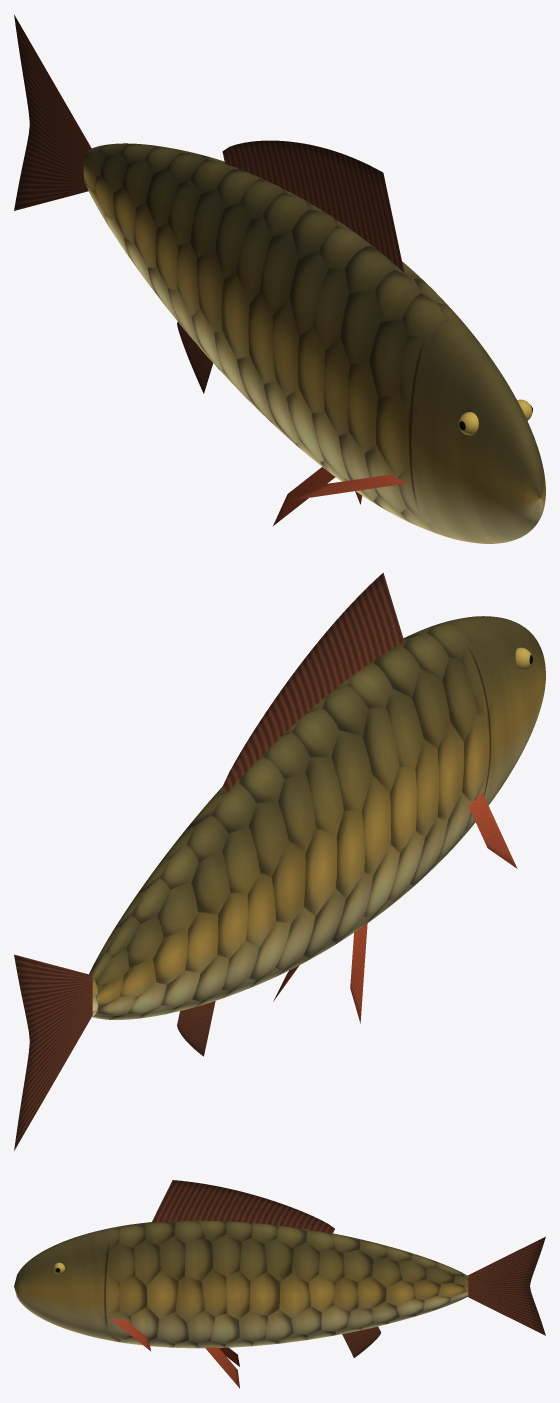
The model's file is karas.obj.
3 renders of one model, top to bottom at view 1: azimuth 30°, elevation 25°; view 2: azimuth 150°, elevation 25°; view 3: azimuth 270°, elevation 25°, orthographic. The views are drawn at different scales.
Visible parts, largest first — view 1: body, fin_dorsal0, fin_tail, fin_pect_R, fin_pelv_R, fin_anal0; view 2: body, fin_dorsal0, fin_tail, fin_anal0, fin_pect_R, fin_pelv_R; view 3: body, fin_dorsal0, fin_tail, fin_anal0, fin_pelv_L, fin_pect_L.
Boxes of the visible parts, x1,y1,x2,y2 form: body: (83,143,545,543); fin_dorsal0: (222,140,404,272); fin_tail: (14,14,91,210); fin_pect_R: (292,474,407,500); fin_pelv_R: (273,467,335,525); fin_anal0: (177,322,213,393); body: (89,616,545,1019); fin_dorsal0: (222,572,404,794); fin_tail: (14,954,92,1150); fin_anal0: (177,1001,215,1056); fin_pect_R: (468,792,517,868); fin_pelv_R: (350,923,367,1023); body: (14,1220,468,1348); fin_dorsal0: (151,1180,334,1233); fin_tail: (467,1236,545,1335); fin_anal0: (342,1326,381,1357); fin_pelv_L: (205,1347,239,1388); fin_pect_L: (110,1318,150,1350).
Size of the model in its own units: 0.0695 by 0.1151 by 0.28.
Materials: 5 (3 with a texture image).
